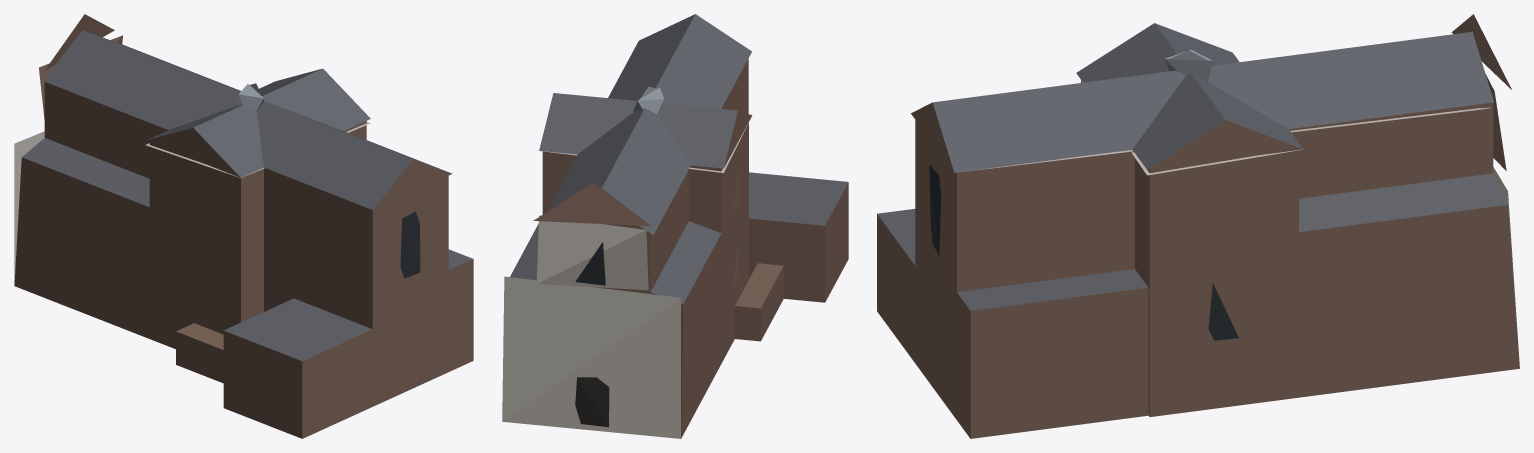
Rendered from de-duif.lod2.glb.
3 views of the same model, side by side, from view 1: azimuth 30°, elevation 25°; view 2: azimuth 150°, elevation 25°; view 3: azimuth 270°, elevation 25° (orthographic). The views are drawn at different scales.
Parts seen in each view (by area): view 1: lod2; view 2: lod2; view 3: lod2.
Part boxes in pixels (x1,y1,x2,y2): lod2: [14, 14, 473, 438]; lod2: [502, 14, 848, 438]; lod2: [877, 14, 1519, 438].
Bounding box in the file's own units: 31.05 × 27.3 × 51.42.
